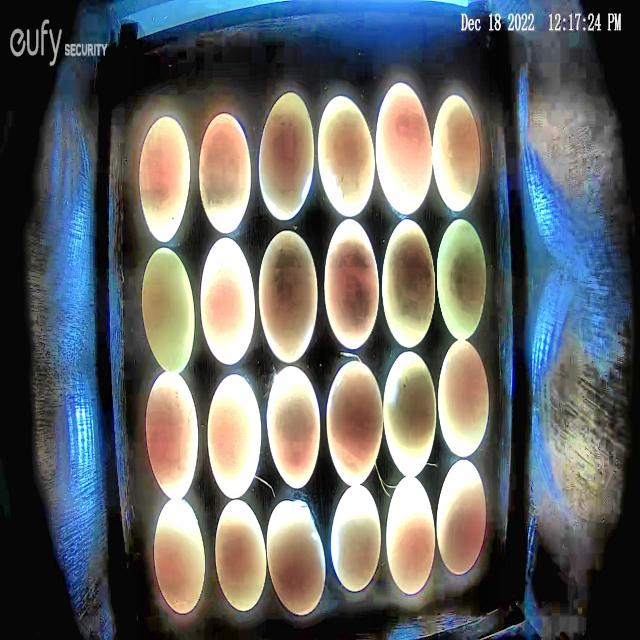UF: (258, 229, 320, 364), (375, 80, 434, 216), (258, 88, 315, 222), (317, 93, 377, 220), (325, 358, 384, 486), (140, 244, 197, 376), (324, 220, 381, 350), (144, 369, 200, 501), (205, 372, 263, 499), (200, 236, 256, 366), (381, 218, 436, 350), (266, 364, 322, 491), (382, 351, 438, 478), (266, 499, 326, 617), (139, 112, 192, 245), (199, 112, 253, 235), (436, 215, 487, 341), (435, 458, 488, 576), (214, 497, 268, 612), (437, 340, 489, 459), (153, 499, 206, 615), (386, 476, 437, 594), (433, 94, 481, 214), (330, 484, 382, 594)
